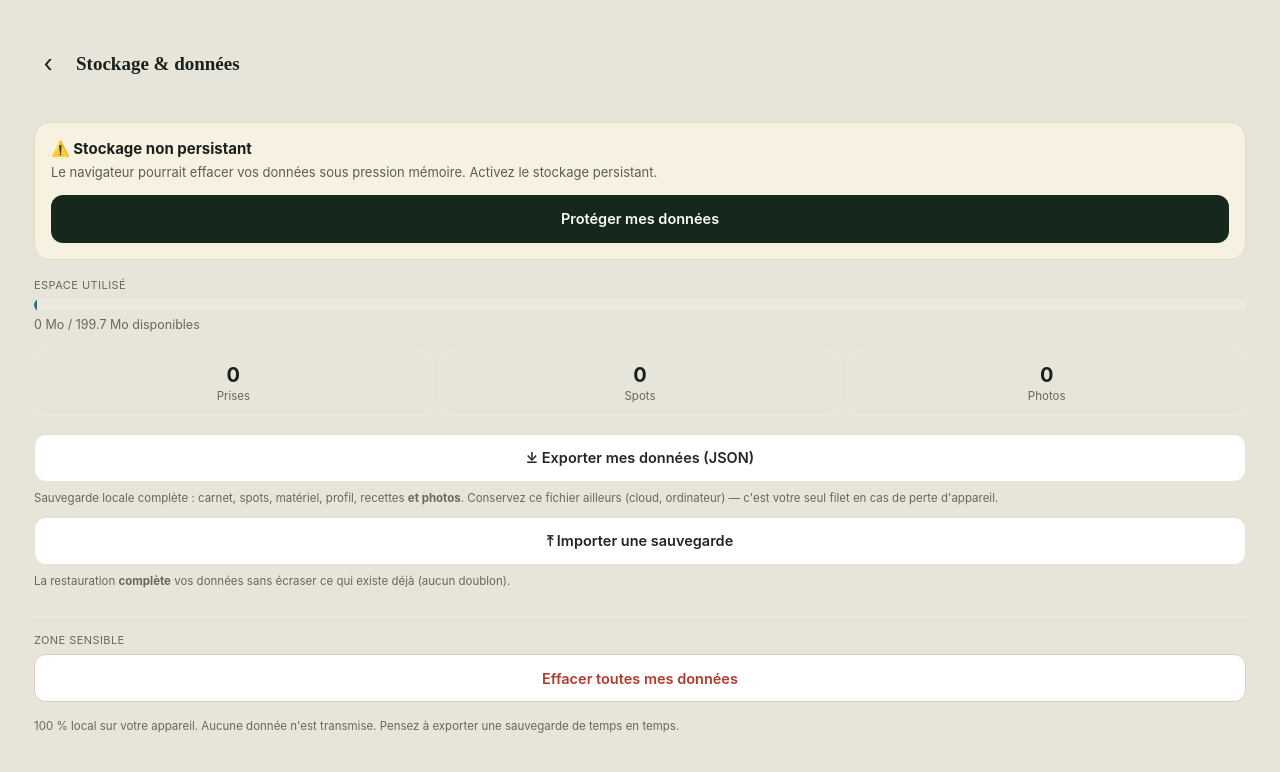
Test: Stockage — export amputé › n'annonce jamais une sauvegarde téléchargée sur un export amputé
Click the button "⤓ Exporter mes données (JSON)" at {"x": 640, "y": 458}, box [34,434,1246,482]
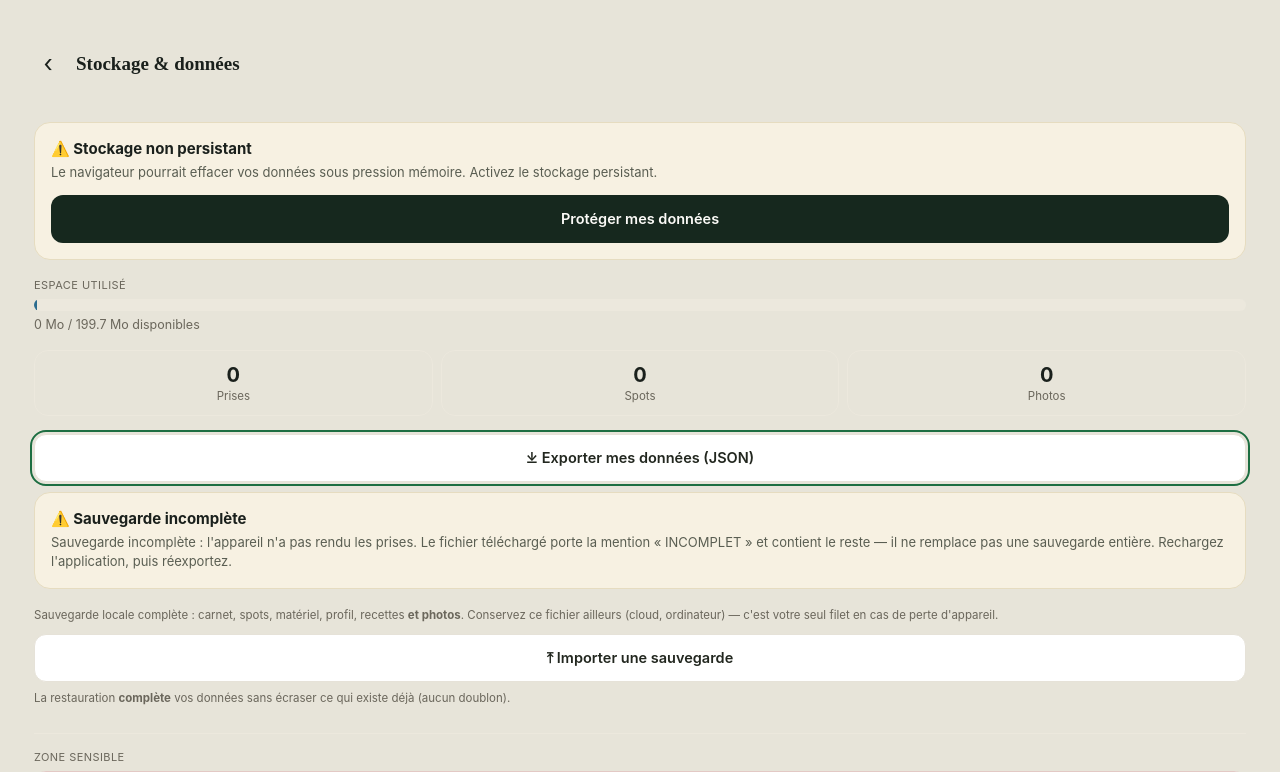
Expected: the message shows "incomplète", [51,508,246,528]
